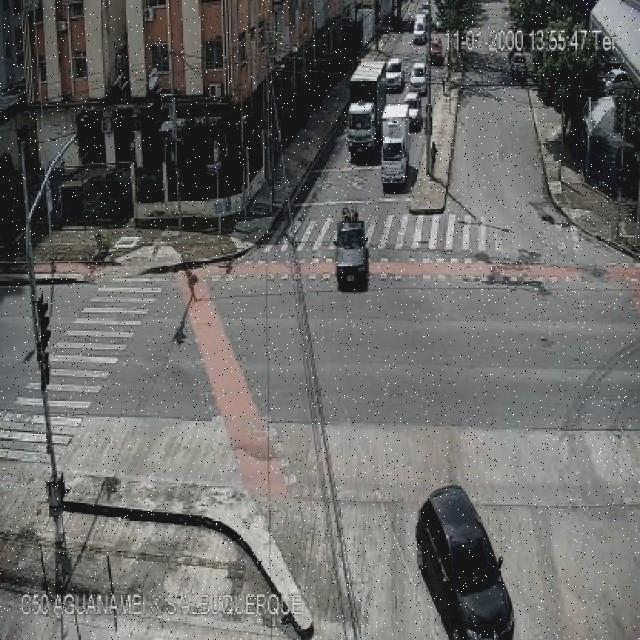Car: (409, 478, 521, 640), (329, 217, 374, 300), (406, 62, 428, 95), (382, 58, 403, 91), (404, 92, 422, 127), (430, 36, 446, 68)
Truck: (344, 61, 386, 165), (382, 105, 410, 188), (413, 6, 431, 47)
